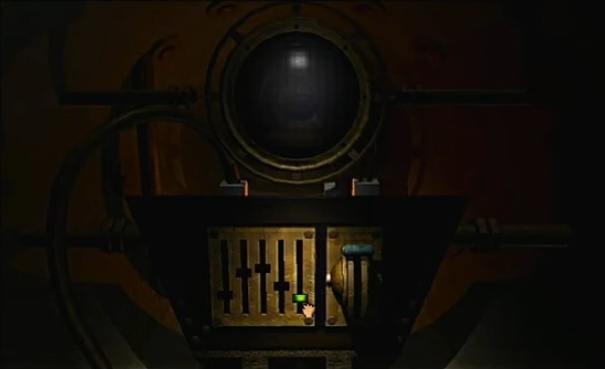Hold: (298, 299, 318, 320)
